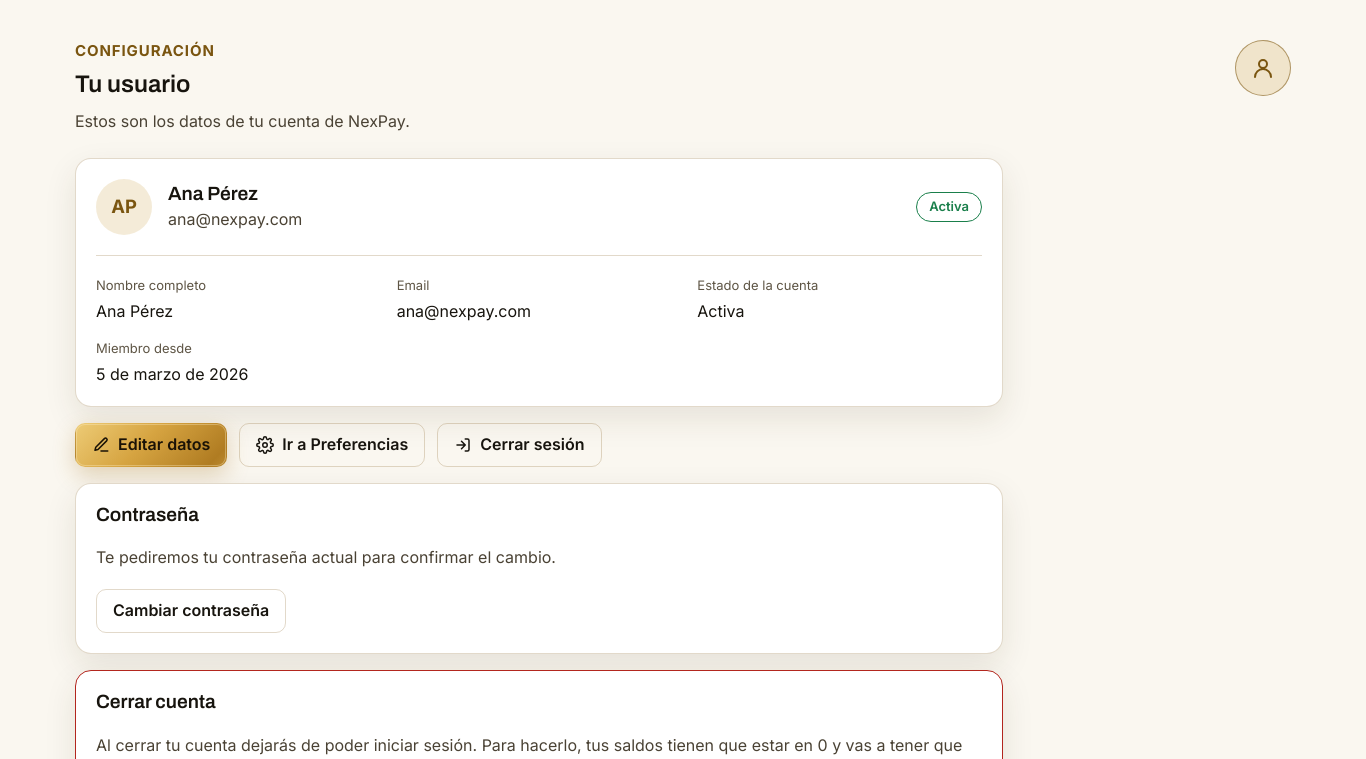
Usuario: editar datos › guarda solo el nombre, actualiza lo que se ve y avisa que se guardó
This screenshot has width=1366, height=759.
Click the button "Editar datos" at (151, 444), box [75,422,227,466]
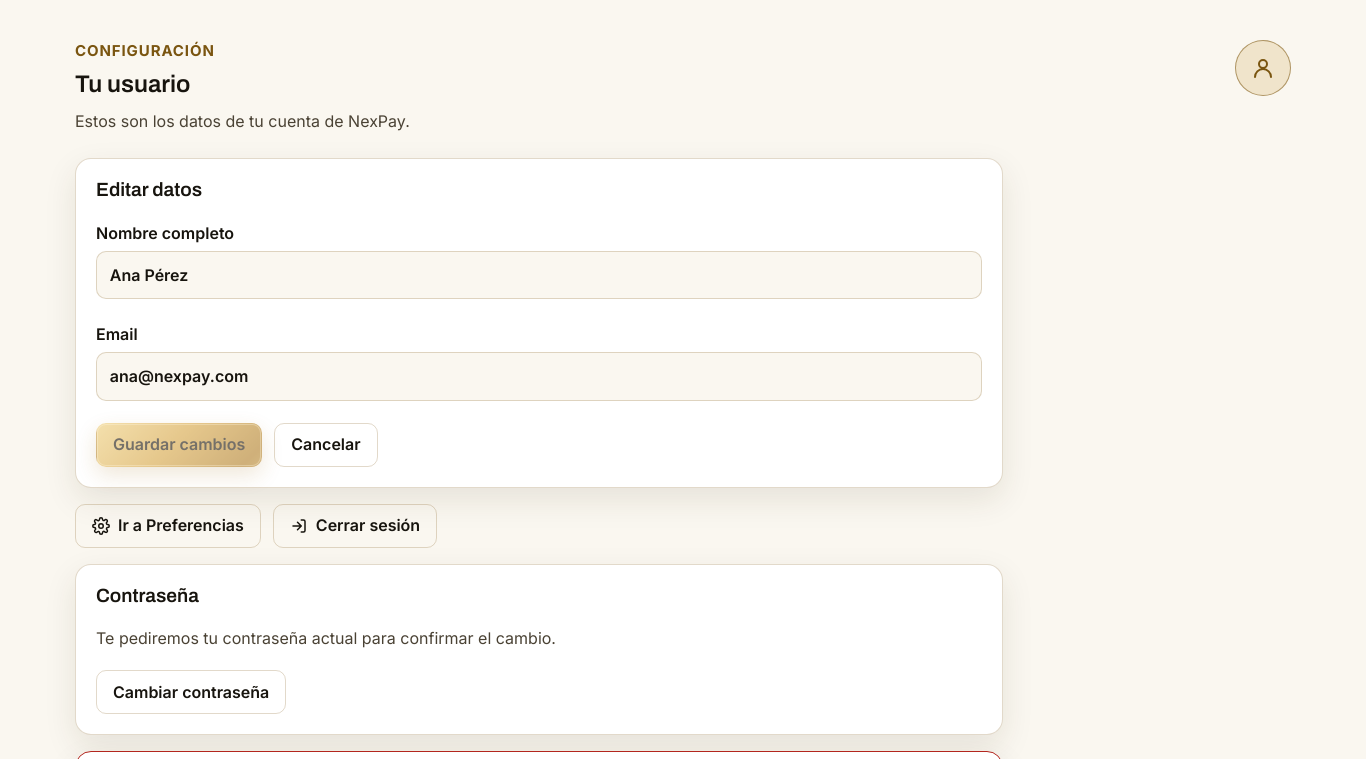
Replace the text in the field labelled "Nombre completo" with "Ana María Pérez" at (539, 275), box [96,251,982,300]
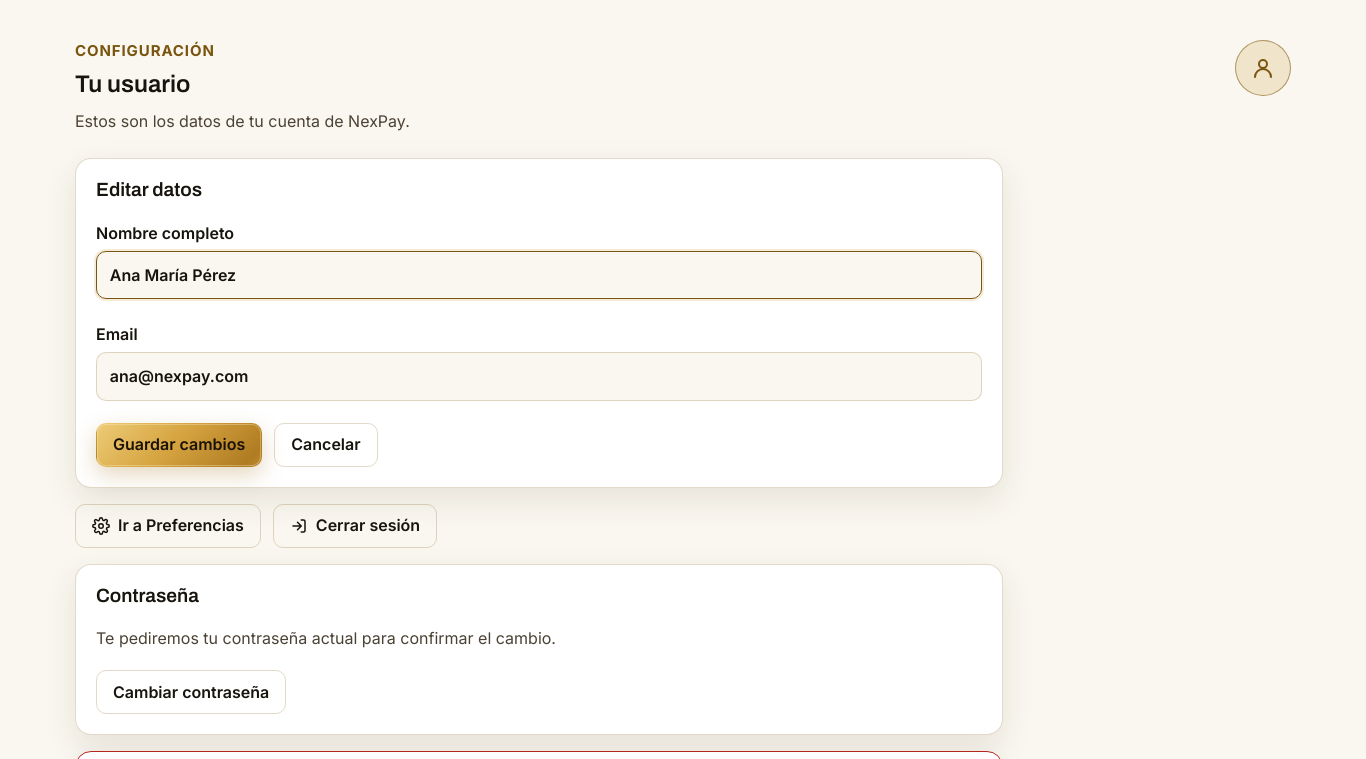
Click the button "Guardar cambios" at (179, 445), box [96,423,262,467]
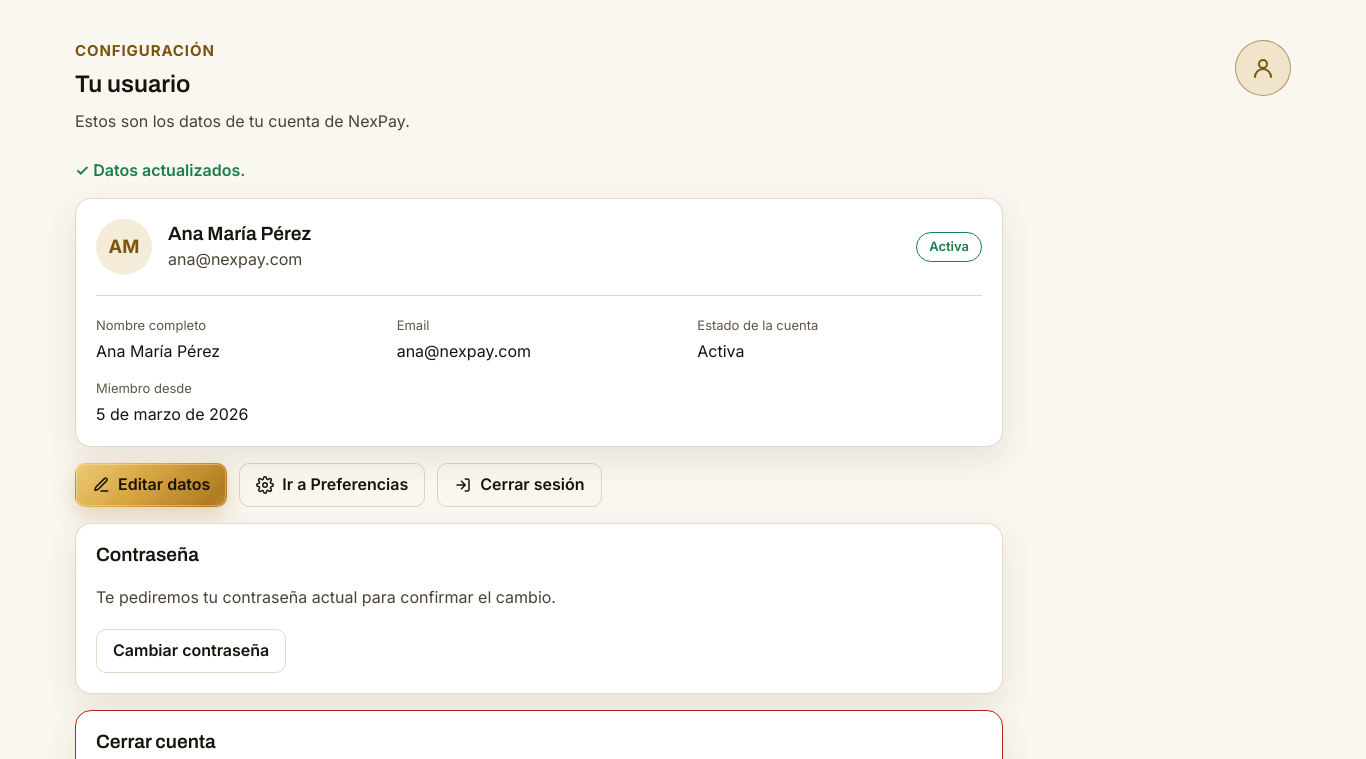
expect the heading "Ana María Pérez" is shown: met, box [168,223,311,244]
expect the message shows "Datos actualizados": met, box [75,160,245,180]
